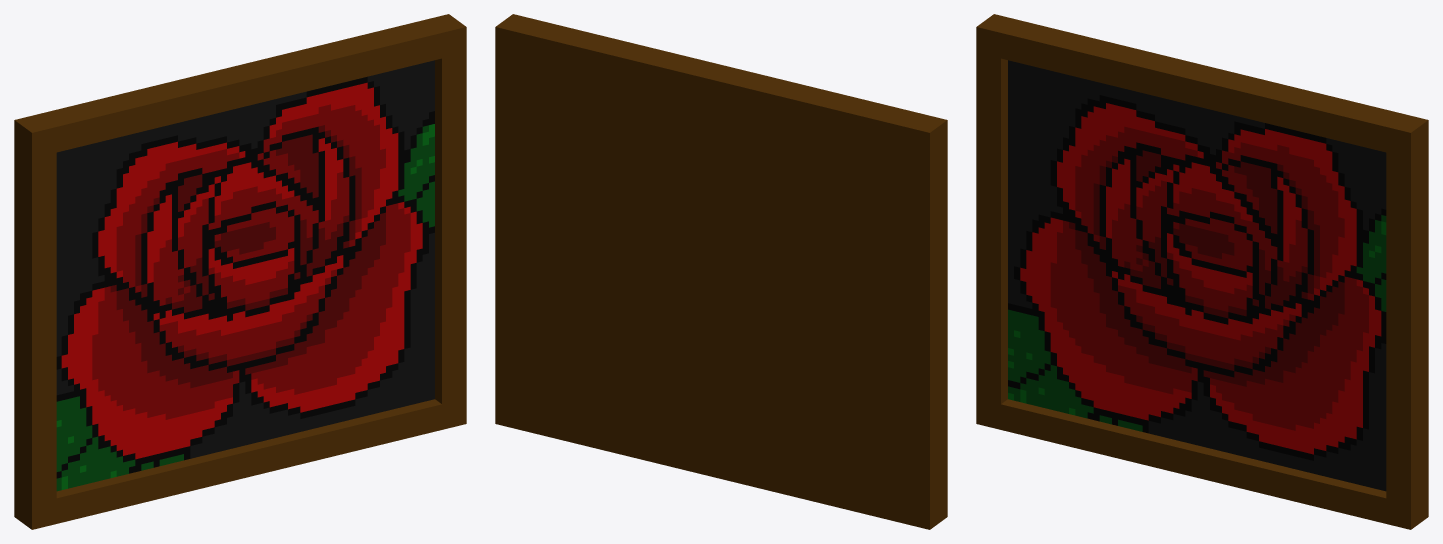
File: Rose Painting.obj
The picture shows the model from 3 angles, left to right: view 1: azimuth 30°, elevation 25°; view 2: azimuth 150°, elevation 25°; view 3: azimuth 330°, elevation 25°; orthographic projection.
Size of the model in its own units: 7.1 by 6.2 by 0.5.
1 material, 1 textured.
